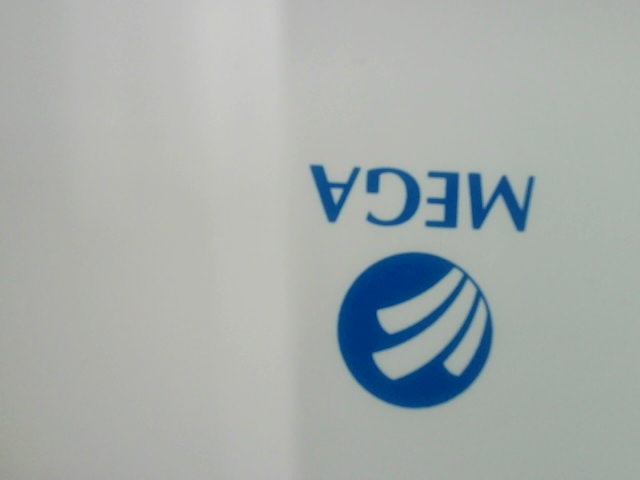AM_ZTEMEGA: (293, 146, 549, 417)
